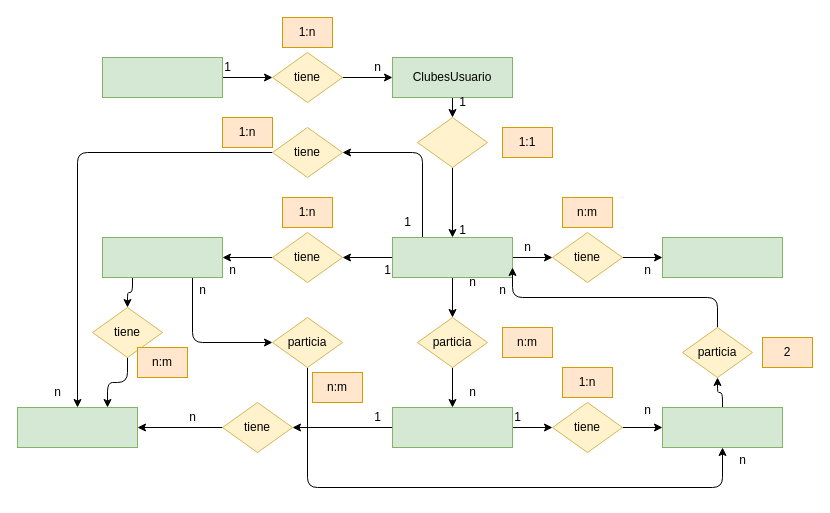
Image size: 830x513. Some labels were removed from this diagram. Here are the shapes that lost their labels. From the top down, the centre of each, then its label:
At (x=162, y=77): "Usuario".
At (x=452, y=142): "estaEn".
At (x=162, y=257): "Jugador".
At (x=452, y=257): "Club".
At (x=722, y=257): "Categoria".
At (x=77, y=427): "ListaDeBuenaFe".
At (x=452, y=427): "Competencia".
At (x=722, y=427): "Partido".
